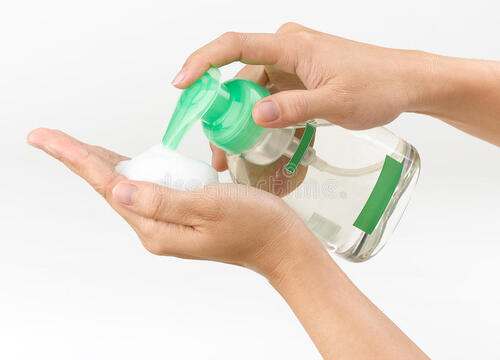sanitizer: (157, 63, 417, 258)
